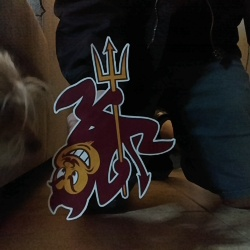sparky: (46, 35, 177, 221)
